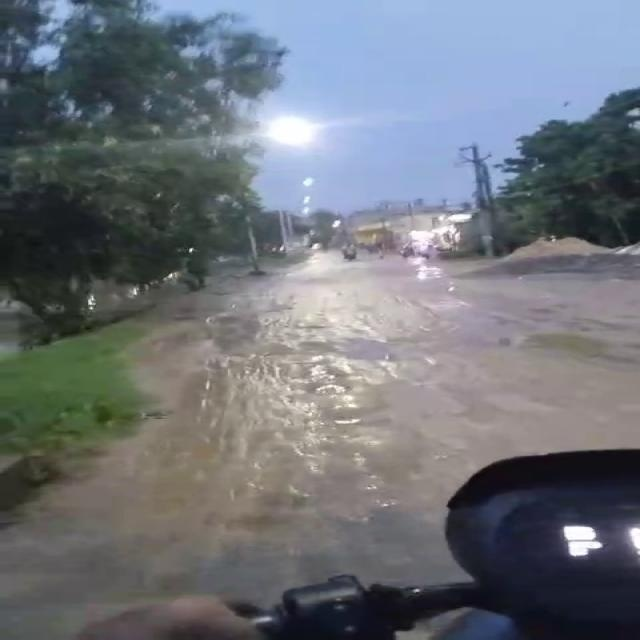pothole: (365, 378, 480, 443), (525, 334, 613, 359), (327, 338, 392, 364), (310, 379, 347, 397), (412, 263, 451, 279), (532, 303, 558, 317), (294, 322, 330, 328), (326, 420, 366, 424)
